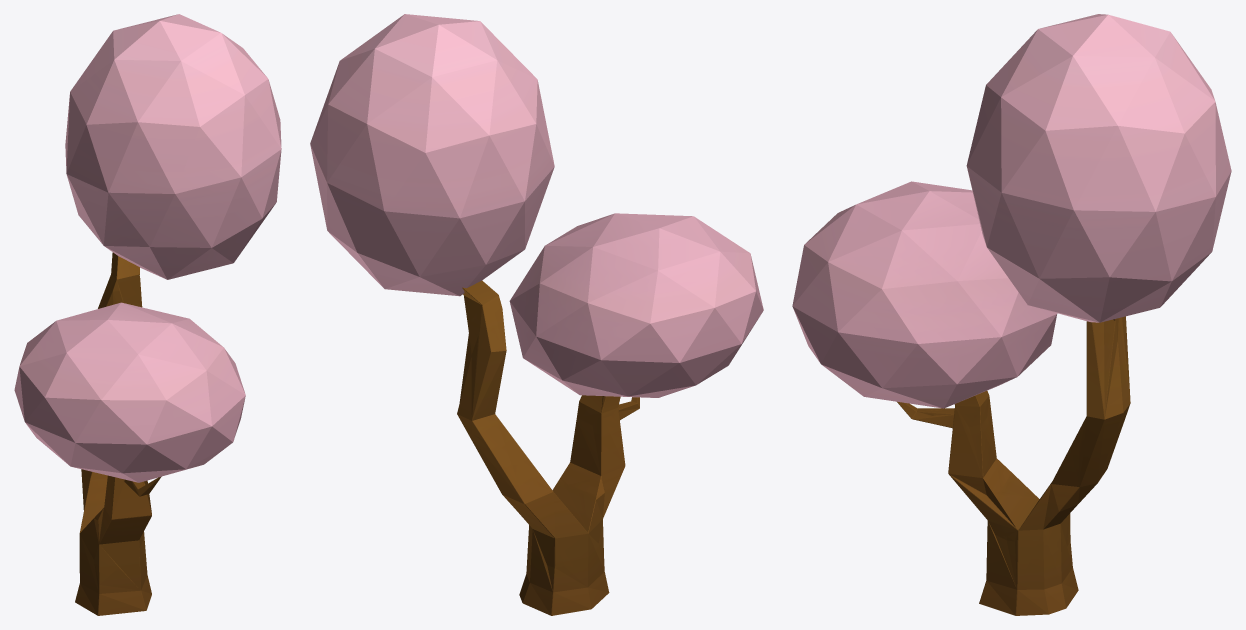
Rendered from tree_twin.glb.
3 views of the same model, side by side, from view 1: azimuth 30°, elevation 25°; view 2: azimuth 150°, elevation 25°; view 3: azimuth 270°, elevation 25° (orthographic). The views are drawn at different scales.
Visible parts, largest first — view 1: Tree_9_AA; view 2: Tree_9_AA; view 3: Tree_9_AA.
Part boxes in pixels (bbox=[...]): Tree_9_AA: bbox=[14, 14, 281, 615]; Tree_9_AA: bbox=[310, 14, 763, 615]; Tree_9_AA: bbox=[792, 14, 1231, 615].
Size of the model in its own units: 2.11 by 3.43 by 2.17.
Materials: 1 (1 with a texture image).
